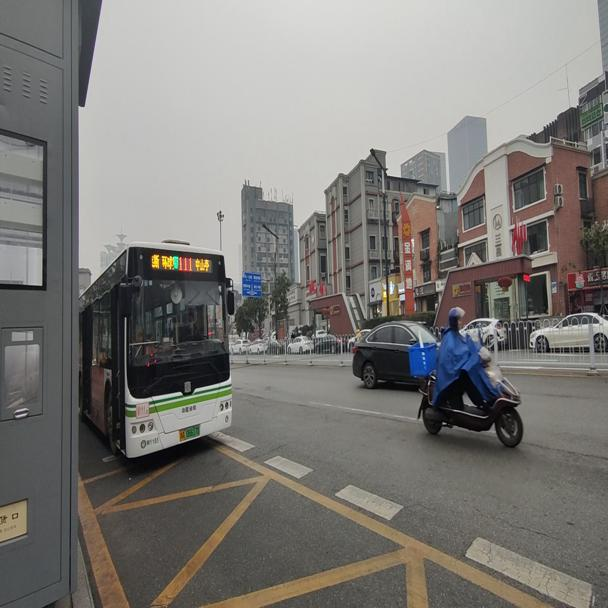bus: (81, 238, 239, 459)
screen: (177, 252, 193, 272)
